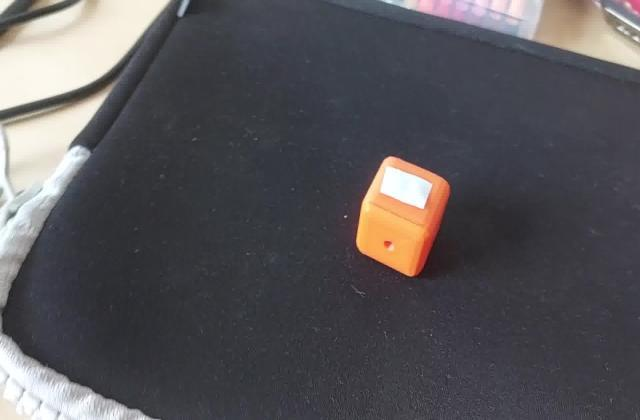sticker: (352, 154, 454, 284)
white: (384, 172, 439, 210)
